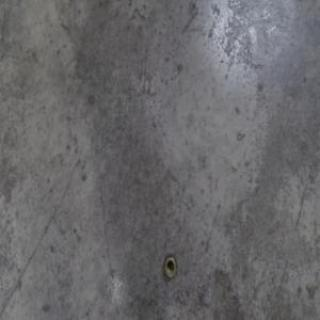Nuttrack_idkeyframe: (163, 252, 176, 280)
